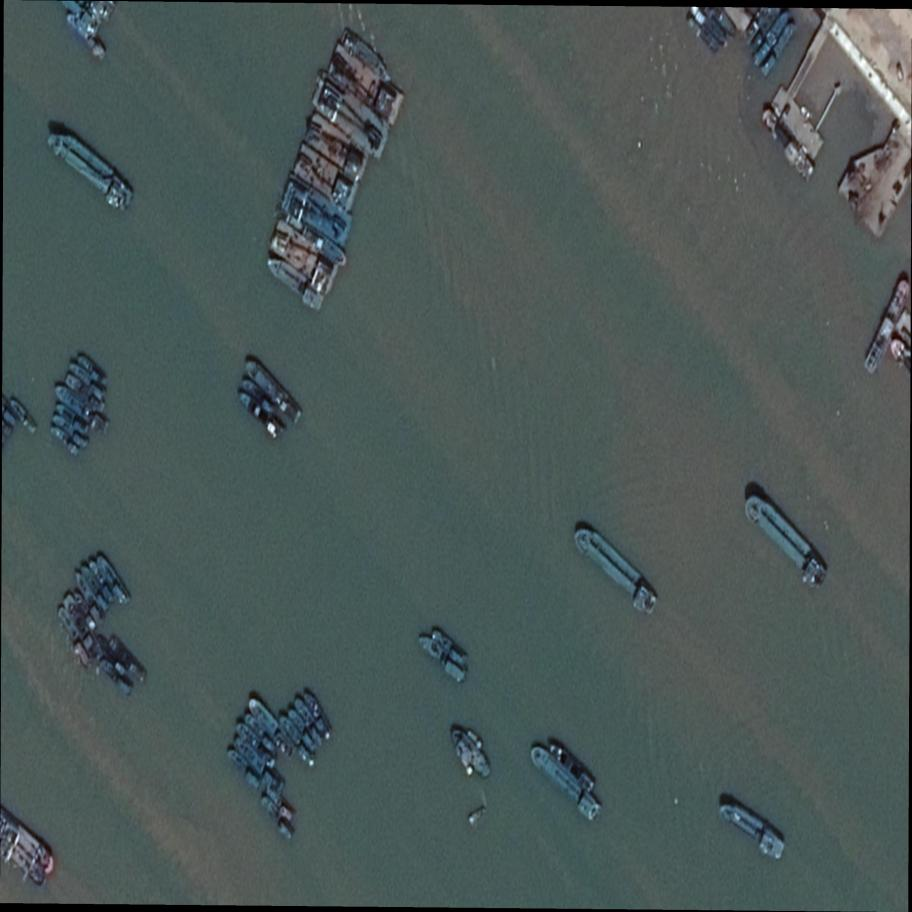ship: (563, 517, 664, 620), (735, 489, 835, 590), (40, 122, 141, 216), (301, 70, 400, 160), (320, 43, 413, 126), (262, 216, 349, 299), (523, 741, 608, 825), (272, 174, 362, 248), (709, 792, 791, 866), (286, 142, 367, 213), (297, 112, 377, 183), (756, 104, 821, 185), (238, 352, 307, 428), (860, 277, 912, 376), (260, 251, 329, 314), (242, 693, 301, 762), (229, 734, 290, 794), (50, 381, 114, 436), (59, 591, 104, 666), (413, 629, 472, 686), (443, 723, 496, 785), (336, 28, 395, 82), (545, 737, 600, 794), (235, 387, 290, 442), (54, 604, 94, 673), (275, 711, 320, 770), (749, 7, 791, 68), (232, 719, 282, 770), (296, 223, 351, 268), (93, 551, 135, 608), (71, 569, 109, 628), (222, 745, 268, 793), (106, 635, 151, 684), (759, 20, 797, 78), (61, 372, 109, 416), (257, 794, 299, 843), (291, 694, 327, 749), (64, 358, 110, 401), (239, 710, 281, 757), (236, 374, 279, 418), (428, 625, 472, 667), (299, 689, 335, 740), (78, 562, 113, 614), (50, 411, 94, 452), (93, 656, 137, 697), (285, 705, 320, 755), (84, 557, 119, 606), (262, 783, 301, 825), (74, 350, 113, 389), (51, 400, 93, 436), (6, 395, 41, 436), (70, 588, 100, 635), (47, 425, 83, 459)
